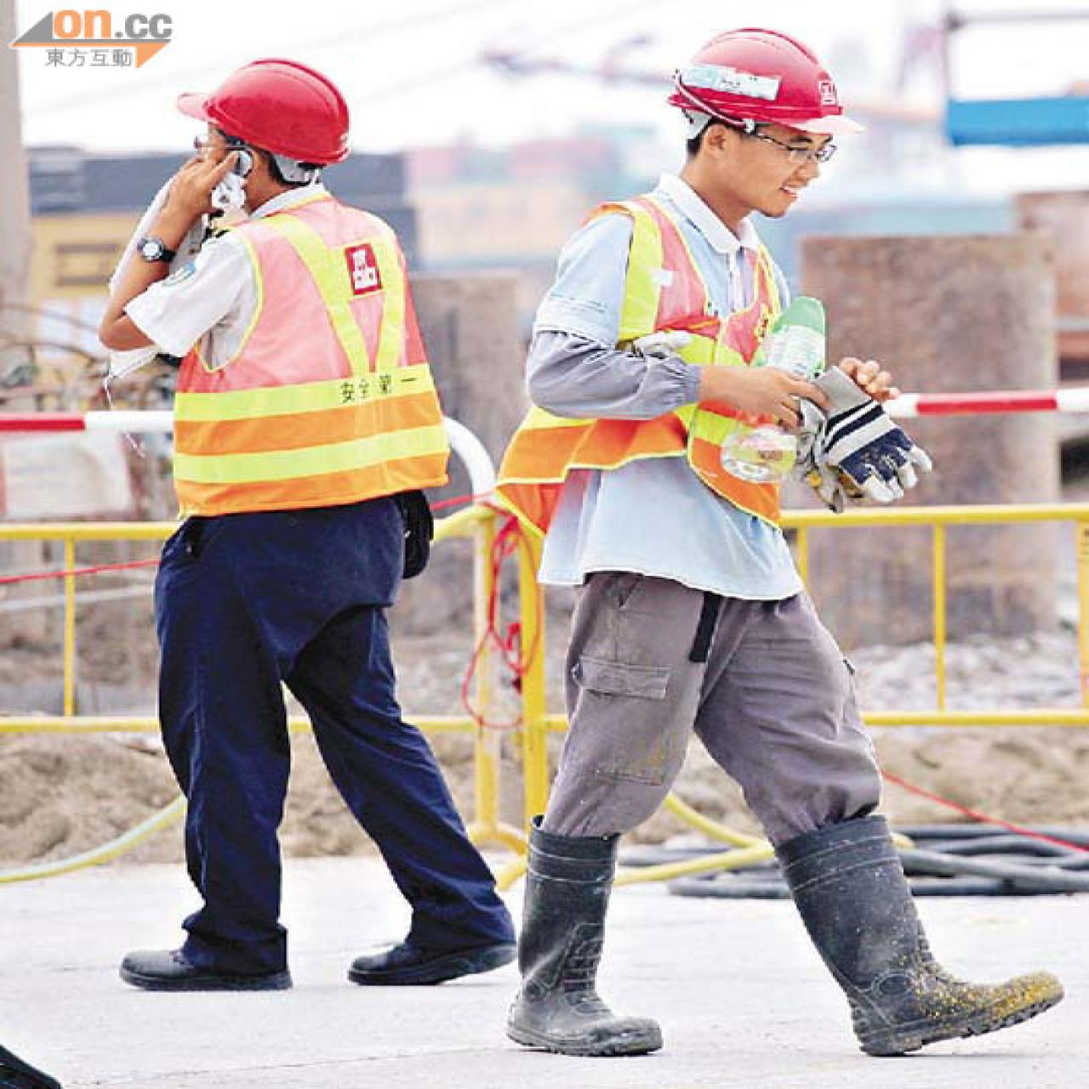Person: (474, 13, 1089, 1073), (32, 36, 539, 1010)
Safety_Vest: (489, 190, 817, 563), (135, 194, 481, 546)
